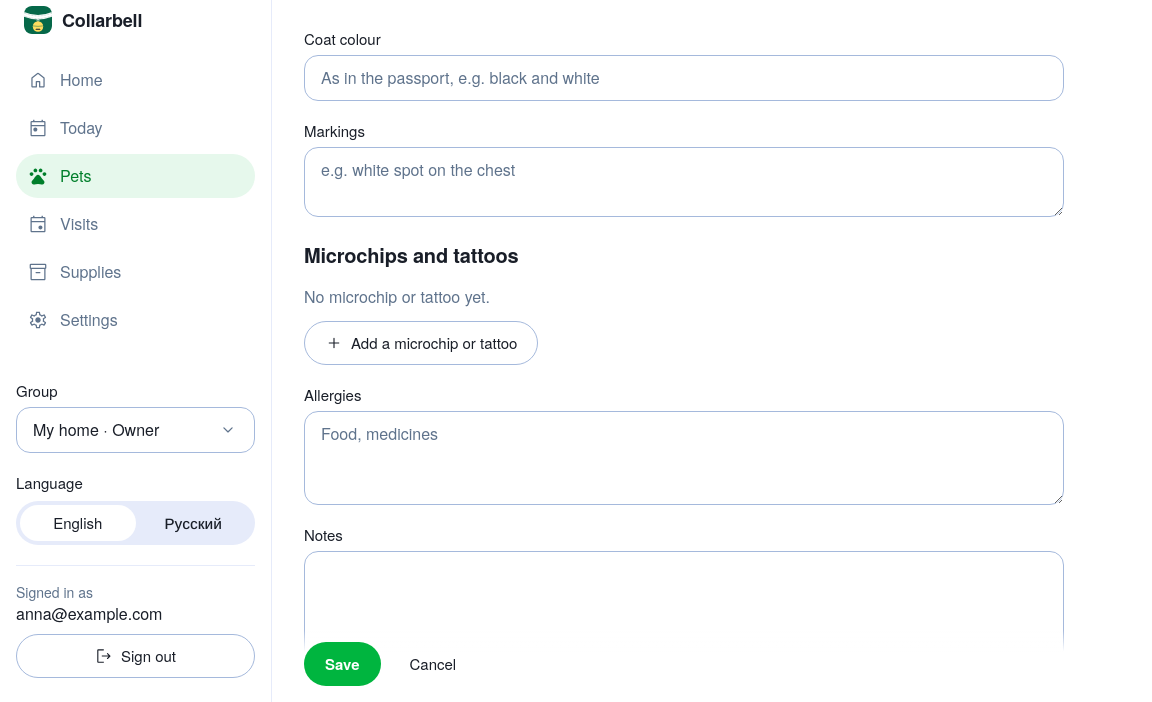
Test: the pet form › checks what it can before sending anything
(page scrolled)
Click the button "Add a microchip or tattoo" at (421, 343), box [304,321,538,365]
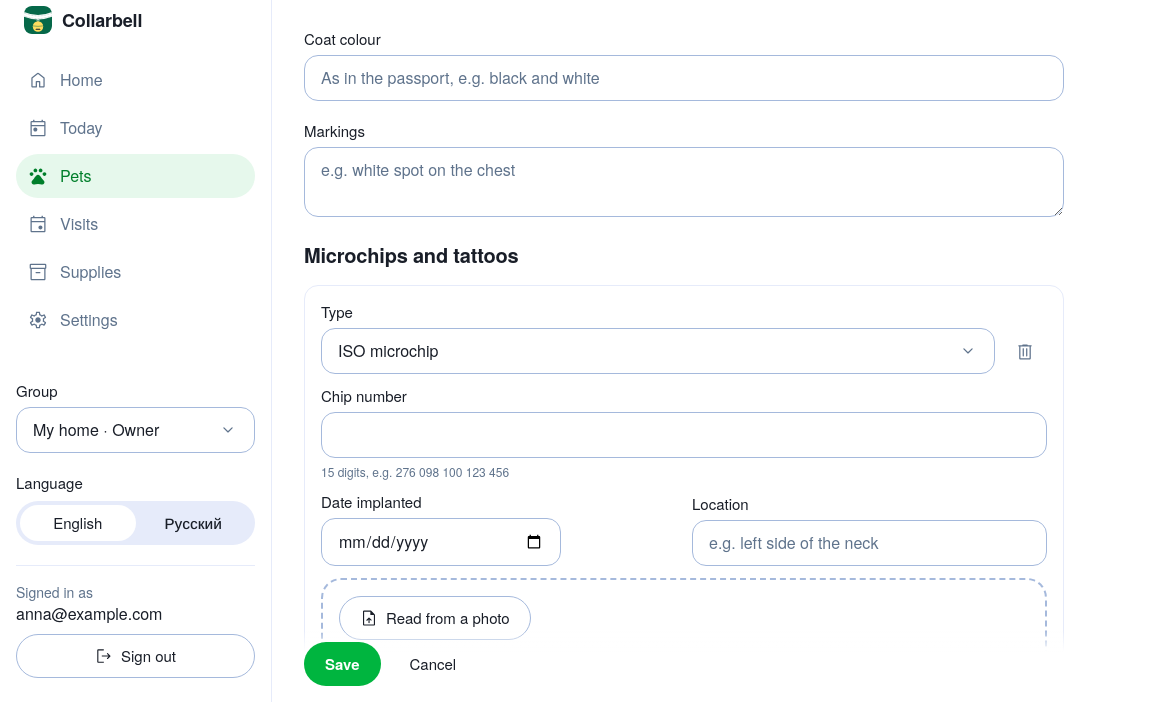
Type "643 094 100 000" into the field labelled "Chip number" at (684, 435), box [321,412,1047,458]
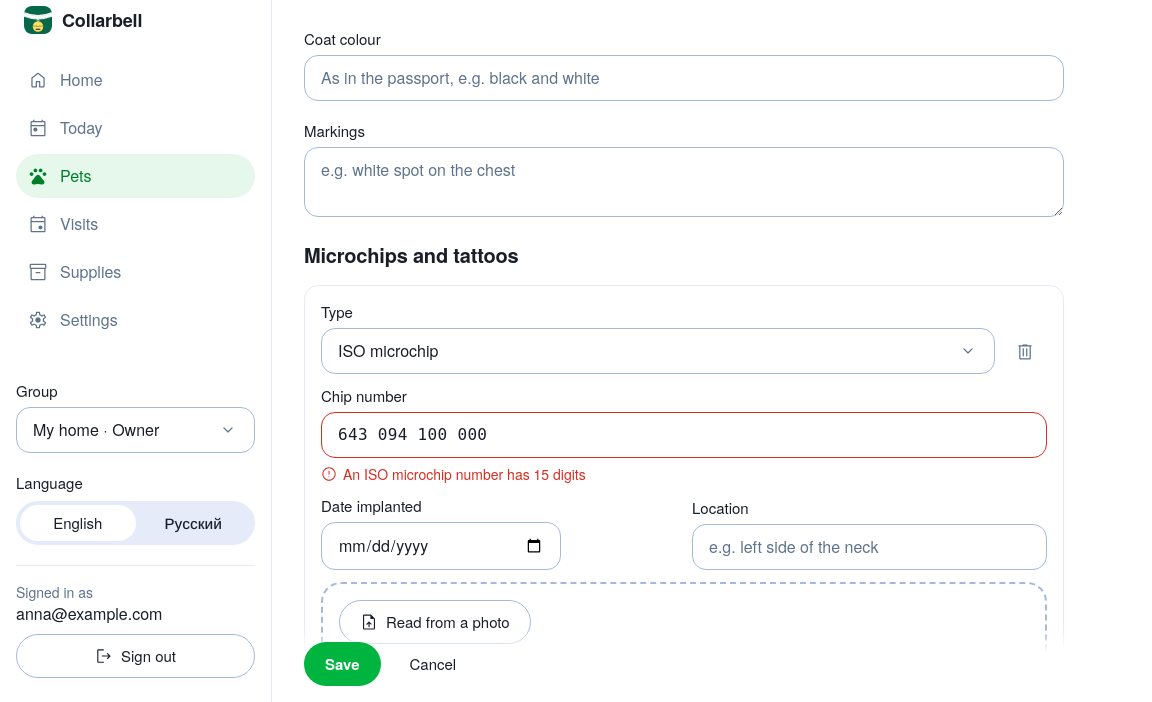
Now the text "An ISO microchip number has 15 digits" is shown, box [321,464,586,484]
Click the button "Save" at (342, 664), box [304,642,380,686]
(page scrolled)
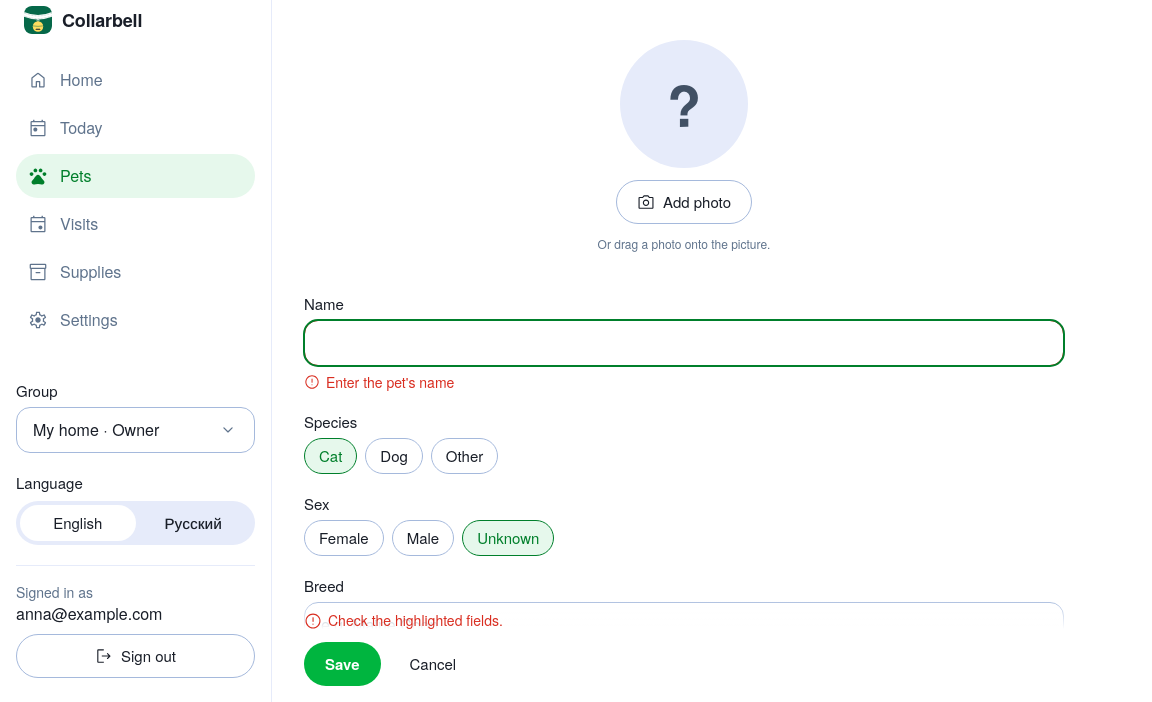
Now the text "Enter the pet's name" is shown, box [304,372,454,392]
Now the text "Check the highlighted fields." is shown, box [304,610,503,630]
